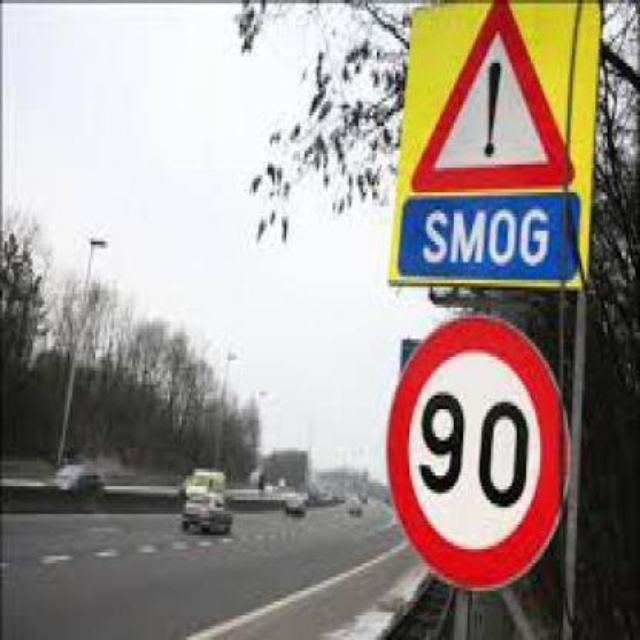Tốc độ tối đa cho phép 90km/h: (388, 322, 565, 590)
